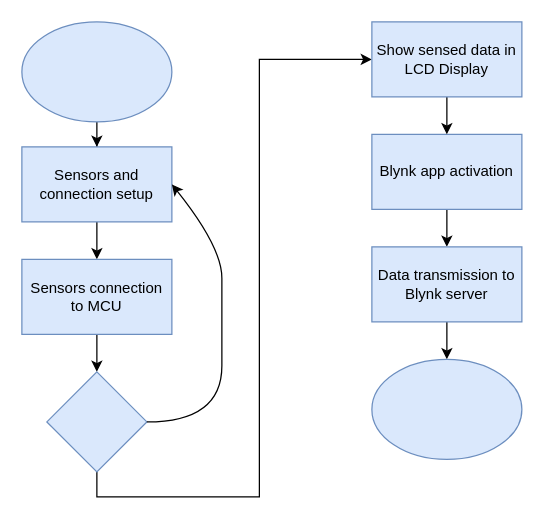
Image size: 544x529. Some labels were removed from this diagram. The shapes that lost their labels are listed below. From the top down, each one's centre as x and y in pixels, then its label:
(x=96, y=71): Start
(x=96, y=421): Wi-Fi connected?
(x=446, y=408): end
